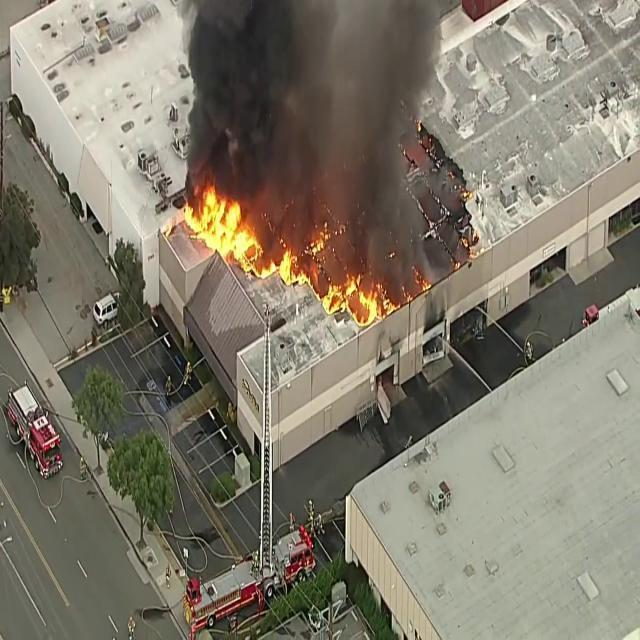Fire: (183, 181, 254, 265)
Smoke: (332, 0, 411, 260), (189, 0, 271, 185)
